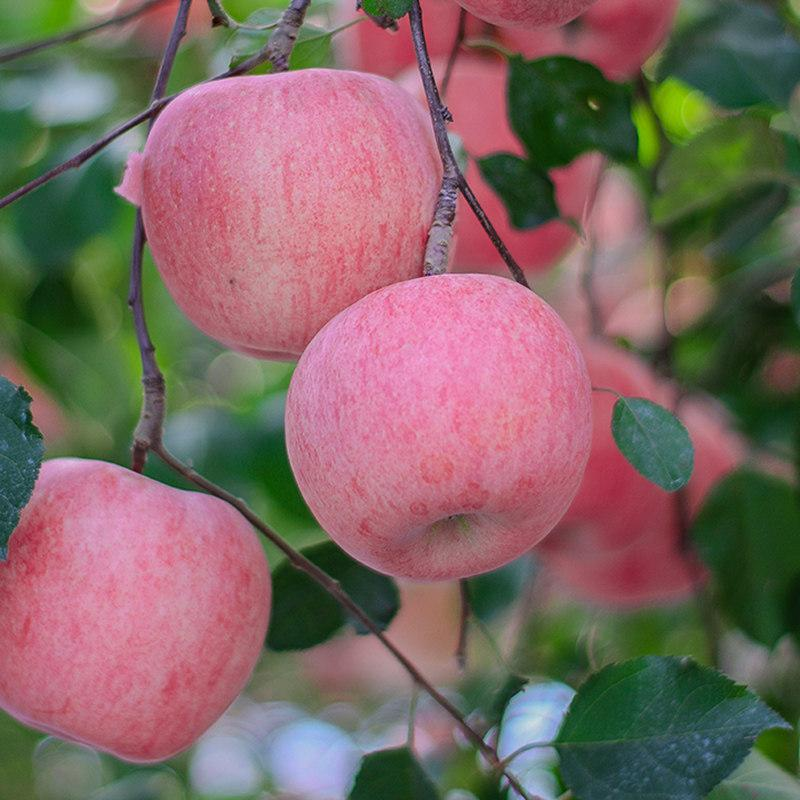apple: (289, 278, 602, 589), (128, 68, 443, 363), (1, 456, 269, 760)
